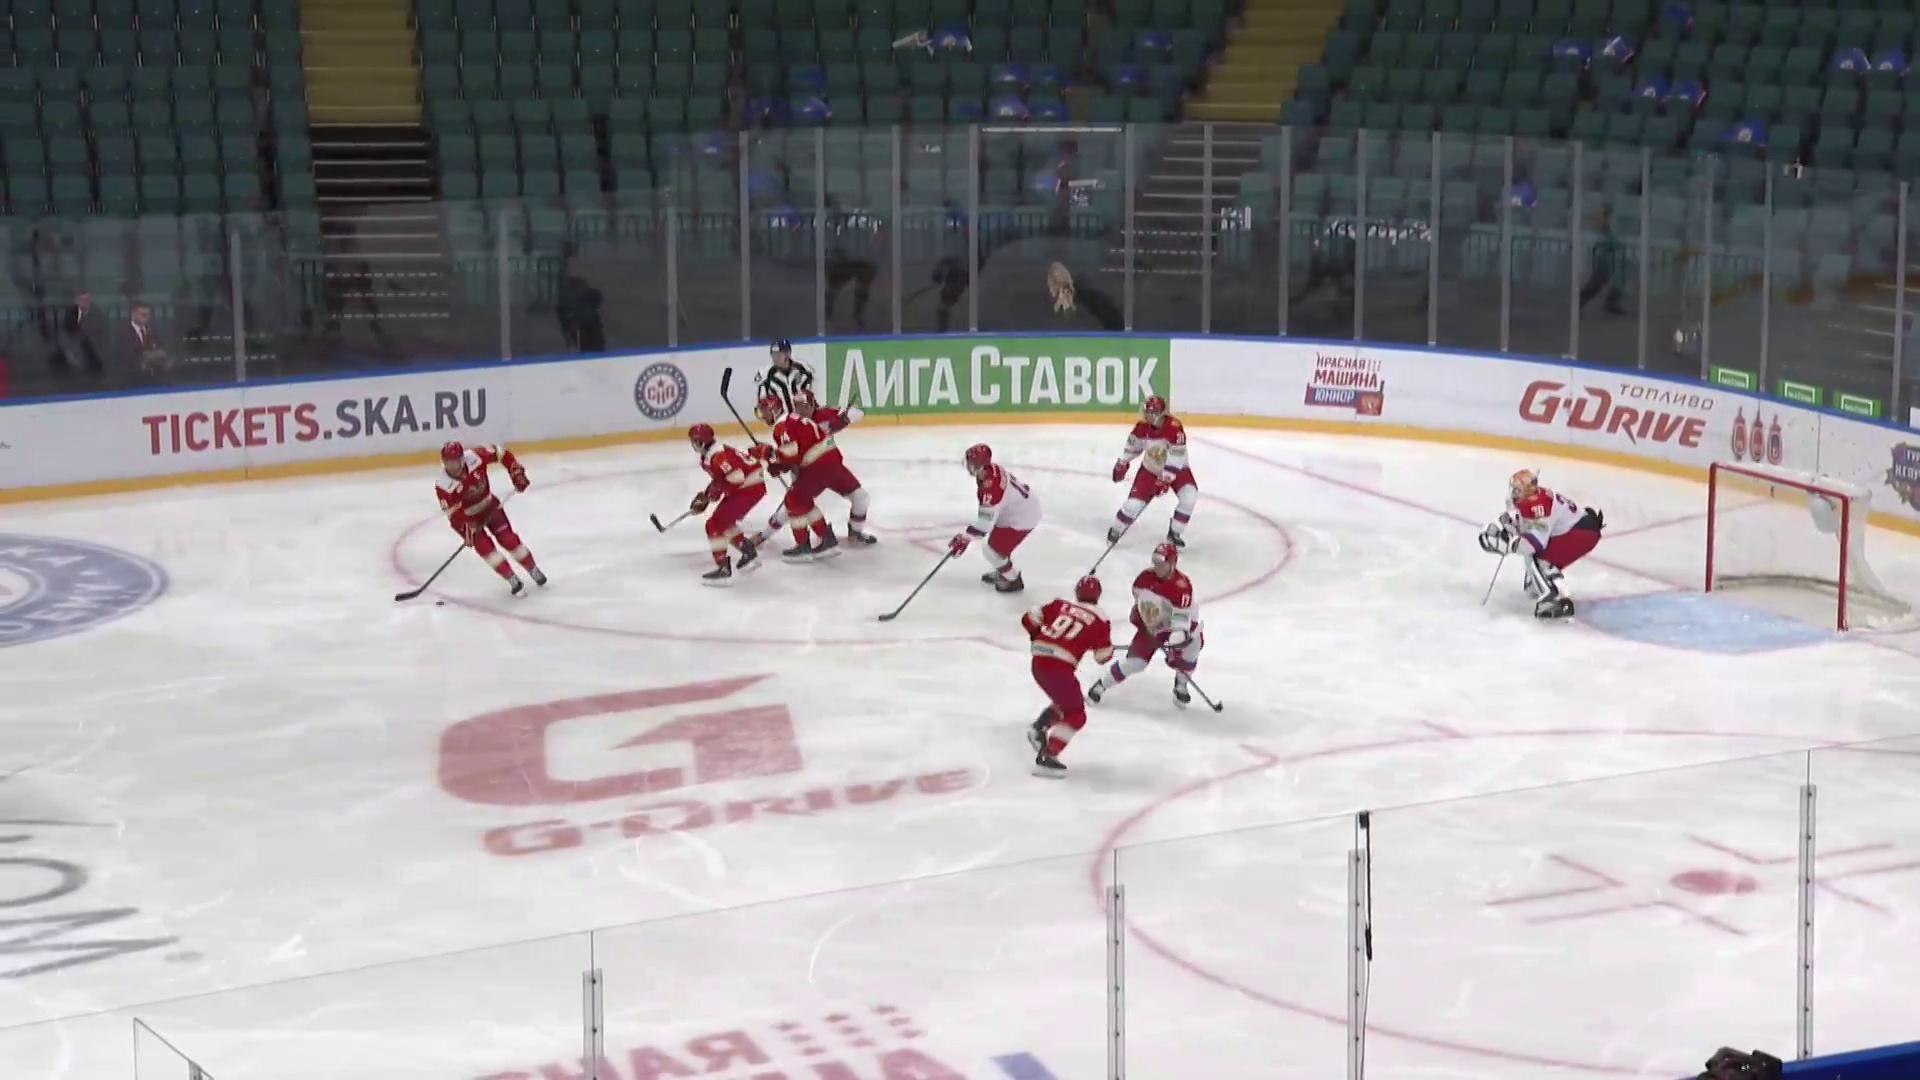ball: (434, 599, 446, 608)
